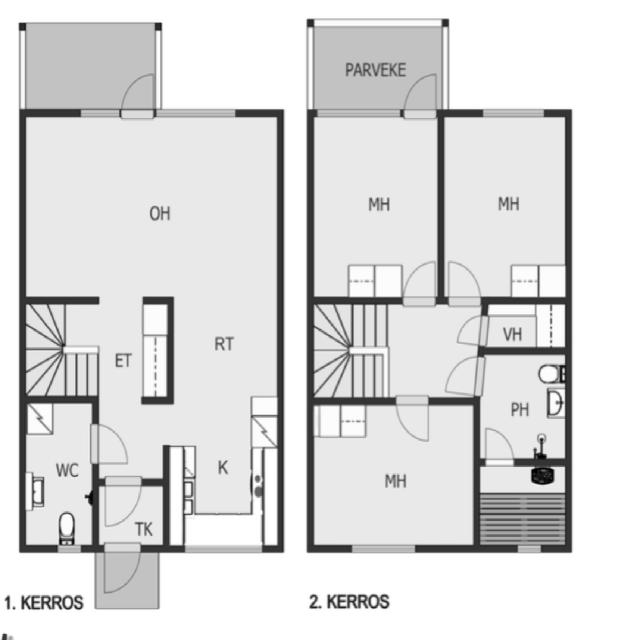door: (312, 396, 474, 546), (99, 475, 145, 532), (100, 542, 144, 598), (391, 389, 433, 446), (443, 255, 485, 309), (399, 67, 440, 122), (400, 256, 440, 308), (88, 421, 131, 469), (120, 68, 157, 120), (440, 352, 481, 398), (480, 422, 517, 468), (451, 311, 489, 350)
window: (181, 538, 265, 558), (156, 103, 240, 121), (347, 538, 421, 558), (314, 104, 403, 120), (479, 102, 548, 122), (75, 104, 123, 121), (53, 540, 87, 557), (512, 540, 546, 557)
zone: (170, 118, 283, 548), (22, 112, 172, 300), (310, 400, 478, 548), (310, 114, 442, 300), (441, 111, 569, 300), (22, 400, 96, 550), (478, 349, 570, 464), (473, 459, 572, 549), (110, 301, 171, 403), (93, 475, 162, 539)
